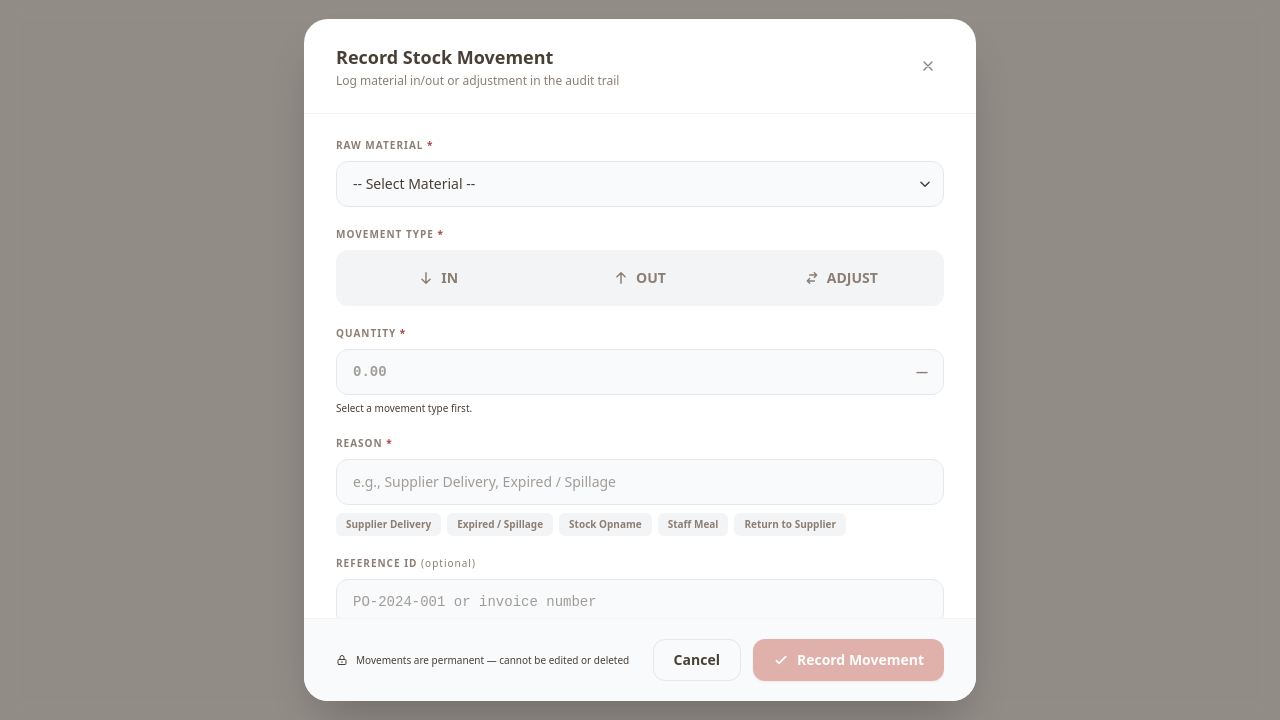
Test: MovementFormModal.vue (Component Testing) › Quantity Hint › [Happy Path] hint untuk OUT
What coordinates should you click on to do the following:
click the button "OUT"
I would click on:
 (640, 278)
Its box is [543,256,737,300].
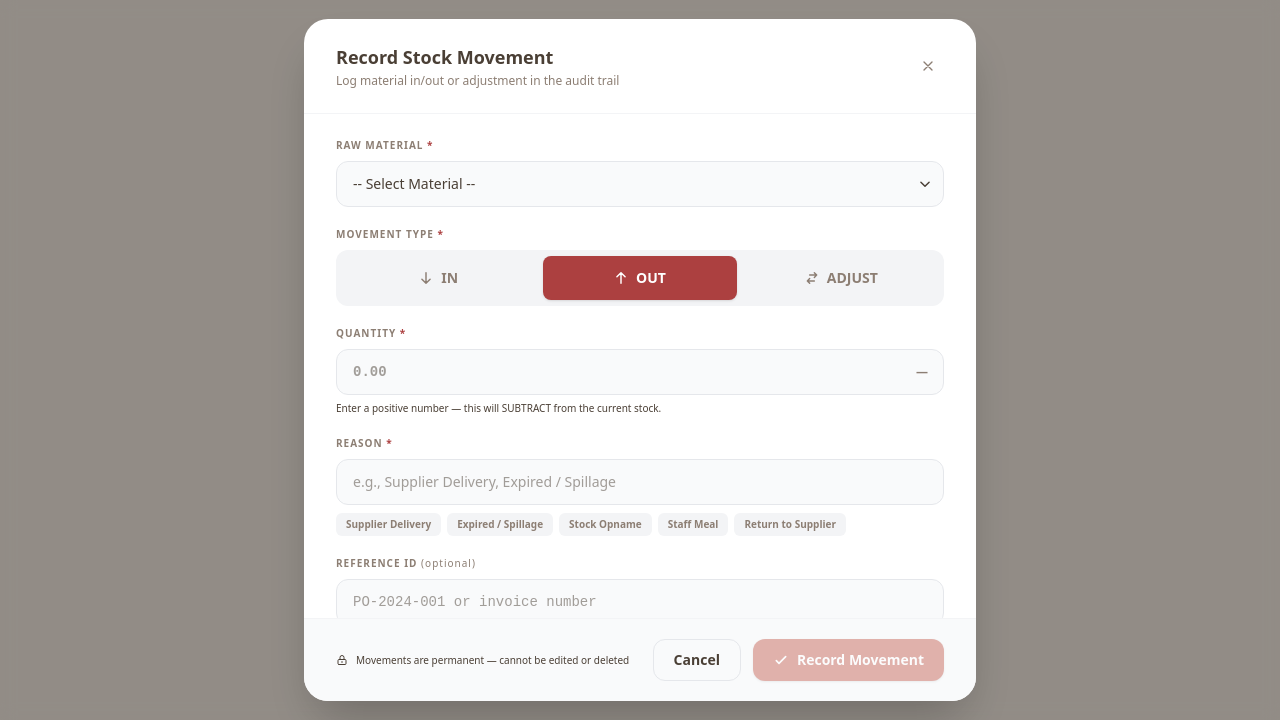
Check: the text "Enter a positive number — this will SUBTRACT from the current stock." is shown, box [336,401,661,415]
